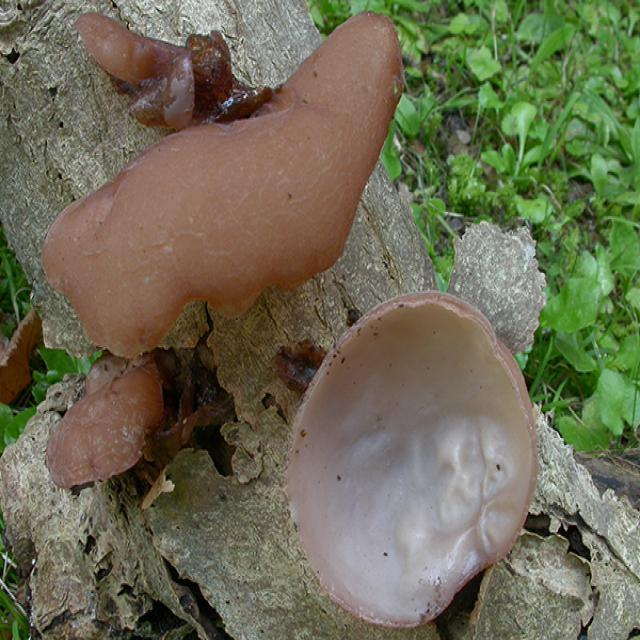Auricularia auricula: (41, 12, 402, 357), (287, 289, 539, 629), (75, 10, 275, 129), (49, 362, 161, 487), (0, 310, 41, 404)
